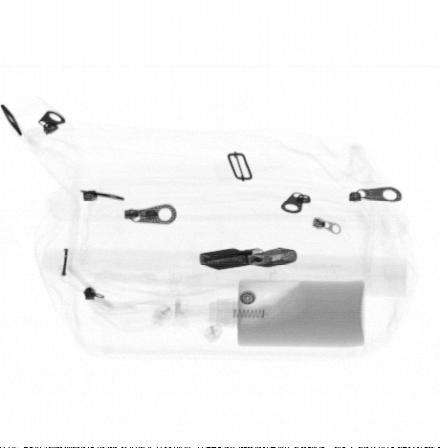Lighter: (199, 246, 298, 271)
